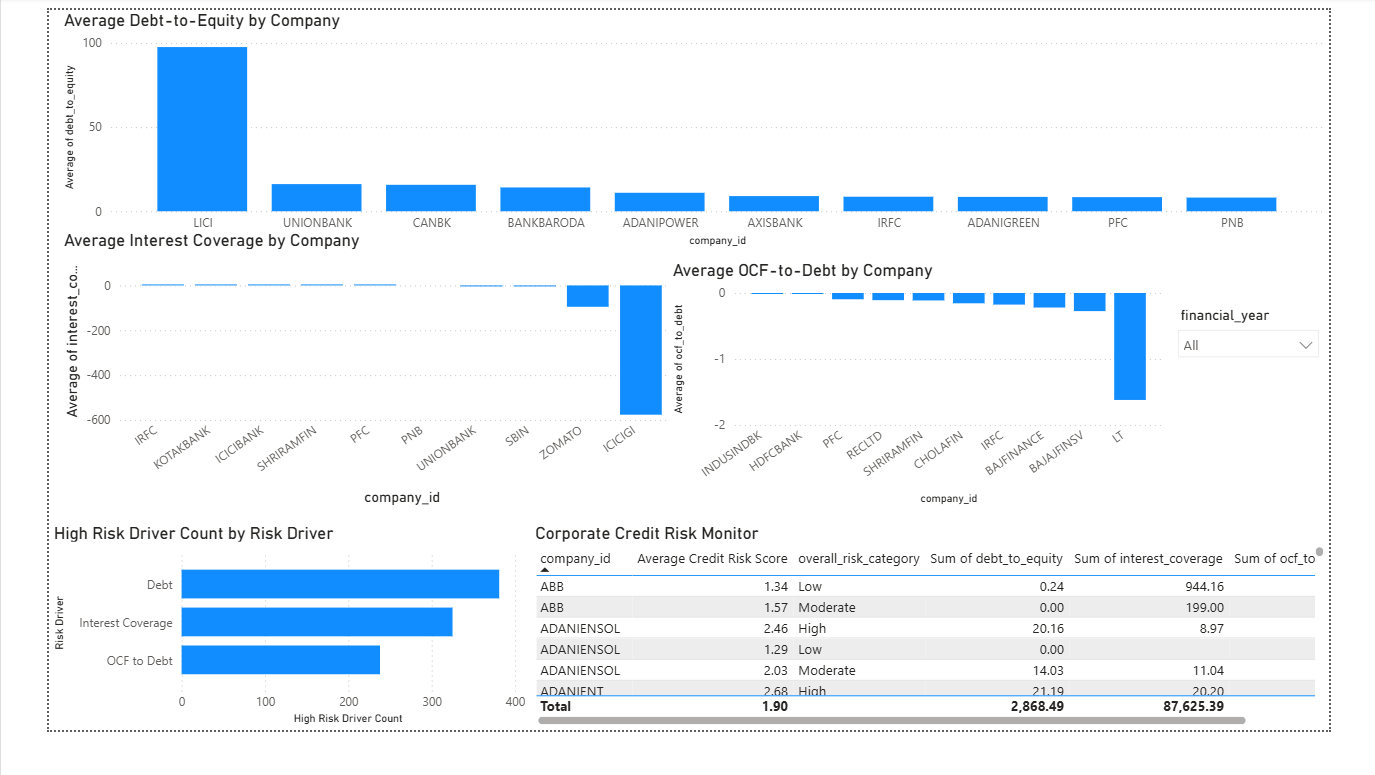

This screenshot's page, from the dashboard's own definition file:
{"tool":"powerbi","page":{"name":"Credit Assessment","canvas":[1280,720],"ordinal":3},"visuals":[{"type":"clusteredColumnChart","title":"Average Debt-to-Equity by Company","fields":{"Category":["credit_risk_analysis credit_risk_data.company_id"],"Y":["Avg(credit_risk_analysis credit_risk_data.debt_to_equity)"]},"box":[10,0,1270,241.2],"z":0},{"type":"clusteredColumnChart","title":"Average Interest Coverage by Company","fields":{"Category":["credit_risk_analysis credit_risk_data.company_id"],"Y":["Avg(credit_risk_analysis credit_risk_data.interest_coverage)"]},"box":[10,220,630,280],"z":1000},{"type":"clusteredColumnChart","title":"Average OCF-to-Debt by Company","fields":{"Category":["credit_risk_analysis credit_risk_data.company_id"],"Y":["Avg(credit_risk_analysis credit_risk_data.ocf_to_debt)"]},"box":[619,250,500,250],"z":2000},{"type":"clusteredBarChart","fields":{"Category":["Risk Drivers.Risk Driver"],"Y":["Risk Drivers.High Risk Driver Count"]},"box":[0,512.5,481.2,207.5],"z":3000},{"type":"tableEx","title":"Corporate Credit Risk Monitor","fields":{"Values":["credit_risk_analysis credit_risk_data.company_id","credit_risk_analysis credit_risk_data.Average Credit Risk Score","credit_risk_analysis credit_risk_data.overall_risk_category","Sum(credit_risk_analysis credit_risk_data.debt_to_equity)","Sum(credit_risk_analysis credit_risk_data.interest_coverage)","Sum(credit_risk_analysis credit_risk_data.ocf_to_debt_score)"]},"box":[481.2,512.5,798.8,207.5],"z":4000},{"type":"slicer","fields":{"Values":["credit_risk_analysis credit_risk_data.financial_year"]},"box":[1119.1,291.8,160.9,68.2],"z":5000}]}

Visuals, with their boxes in screenshot pixels (x1, y1, x2, y2), scaled from the page's 1280x720 canvas onto the 1375x775 screenshot:
"Average Debt-to-Equity by Company" clusteredColumnChart: crop(11, 0, 1374, 260)
"Average Interest Coverage by Company" clusteredColumnChart: crop(11, 237, 688, 538)
"Average OCF-to-Debt by Company" clusteredColumnChart: crop(665, 269, 1202, 538)
clusteredBarChart - Risk Drivers.Risk Driver x Risk Drivers.High Risk Driver Count: crop(0, 552, 517, 774)
"Corporate Credit Risk Monitor" tableEx: crop(517, 552, 1374, 774)
slicer - credit_risk_analysis credit_risk_data.financial_year: crop(1202, 314, 1374, 388)
